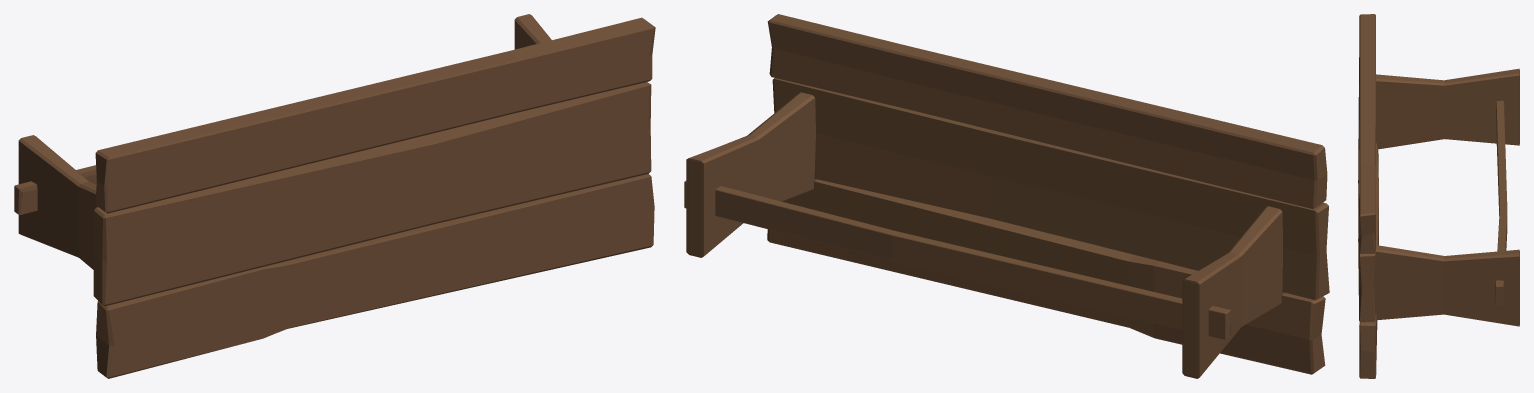
The model's file is Table_02.fbx.
The picture shows the model from 3 angles, left to right: view 1: azimuth 30°, elevation 25°; view 2: azimuth 150°, elevation 25°; view 3: azimuth 270°, elevation 25°; orthographic projection. The views are drawn at different scales.
Visible parts, largest first — view 1: Table_2.0_LOW.002; view 2: Table_2.0_LOW.002; view 3: Table_2.0_LOW.002.
Part boxes in pixels (box(x1,y1,x2,y2)): Table_2.0_LOW.002: box(14, 14, 655, 378); Table_2.0_LOW.002: box(684, 14, 1329, 378); Table_2.0_LOW.002: box(1358, 14, 1519, 378).
Bounding box in the file's own units: 204 × 78.18 × 68.86.
